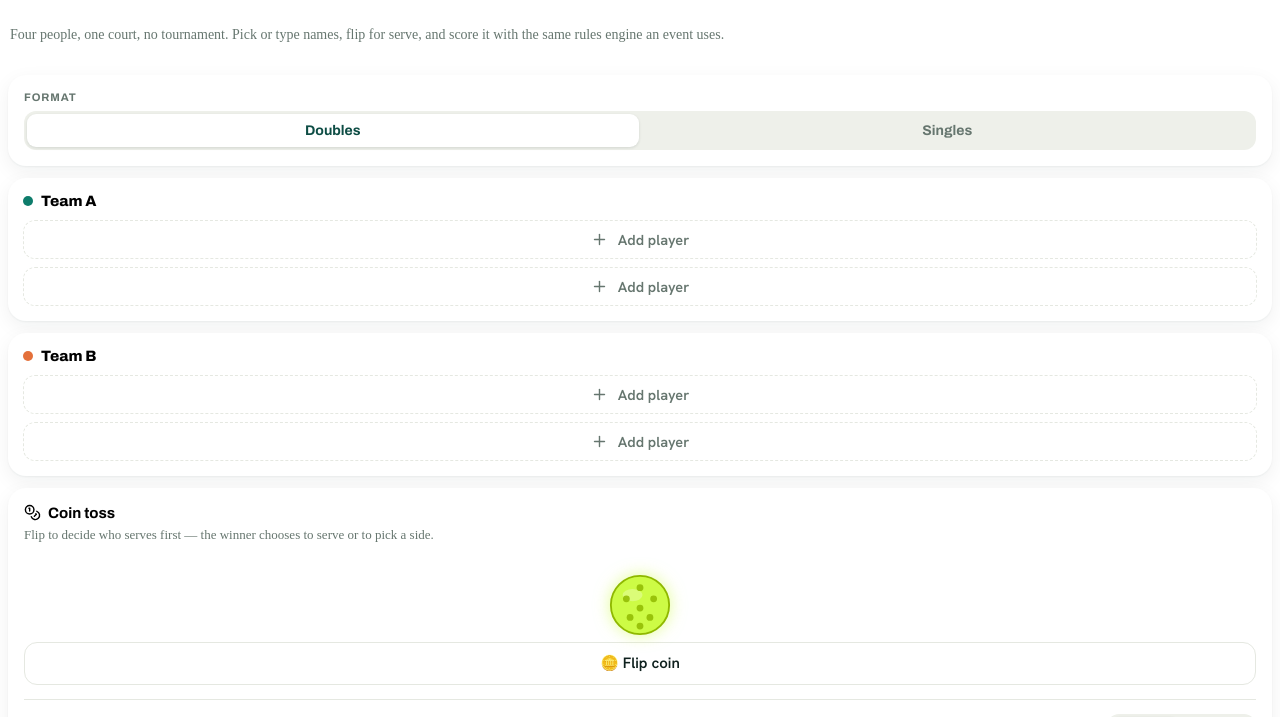
pickup game setup › offers recent guests so the same person can be re-picked
The width and height of the screenshot is (1280, 717).
Click the 1st button "Add player": (640, 240) [23,220,1257,259]
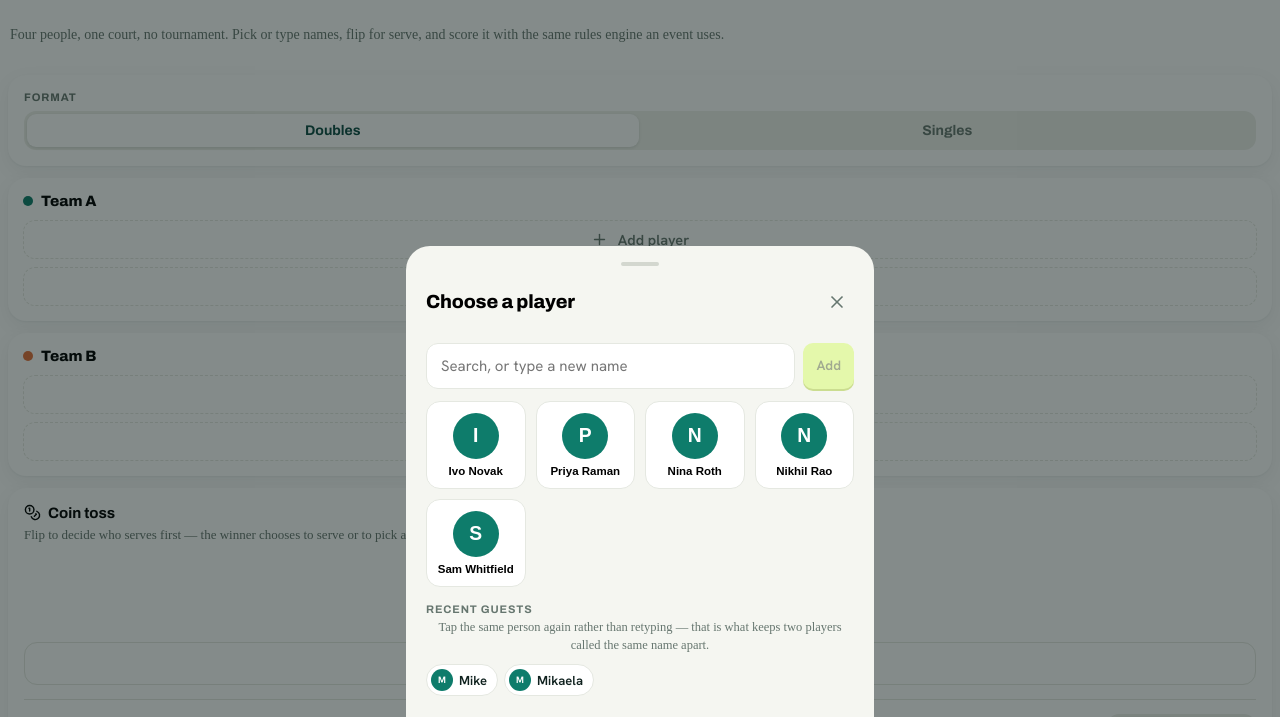
Expected: the text "Recent guests" is shown, [426,603,533,615]
Expected: the text "Mike" is shown, [459,672,487,688]
Expected: the text "keeps two players called the same name apart" is shown, [438,620,842,652]
